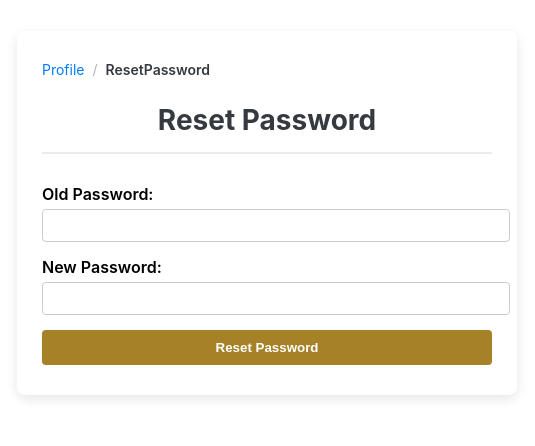
Test: successful password reset shows message and navigates
Type "oldPass1!" into the password field labelled "Old Password:".
click(276, 226); type("oldPass1!")  # box top-left (42, 209), bottom-right (510, 242)
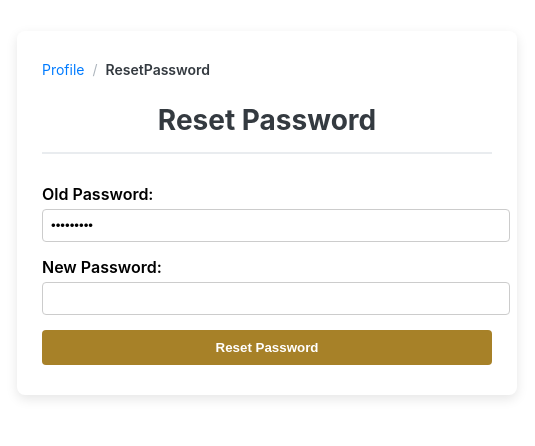
Type "NewPass1!" into the password field labelled "New Password:".
click(276, 298); type("NewPass1!")  # box top-left (42, 282), bottom-right (510, 315)
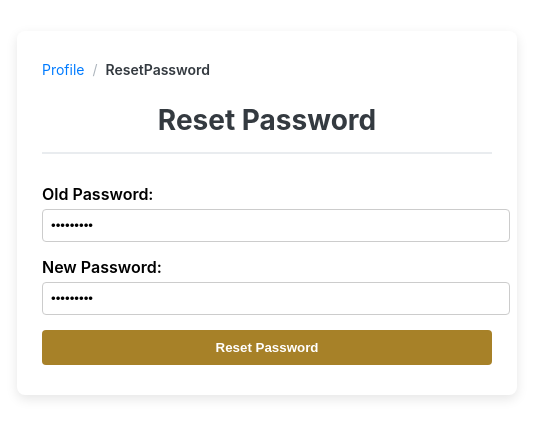
Click the button "Reset Password".
click(267, 348)  # box top-left (42, 330), bottom-right (492, 365)
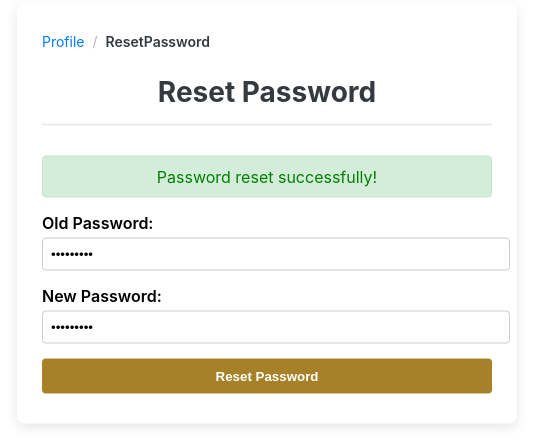
Check: the text "Password reset successfully!" is shown, box top-left (42, 156), bottom-right (492, 198)
